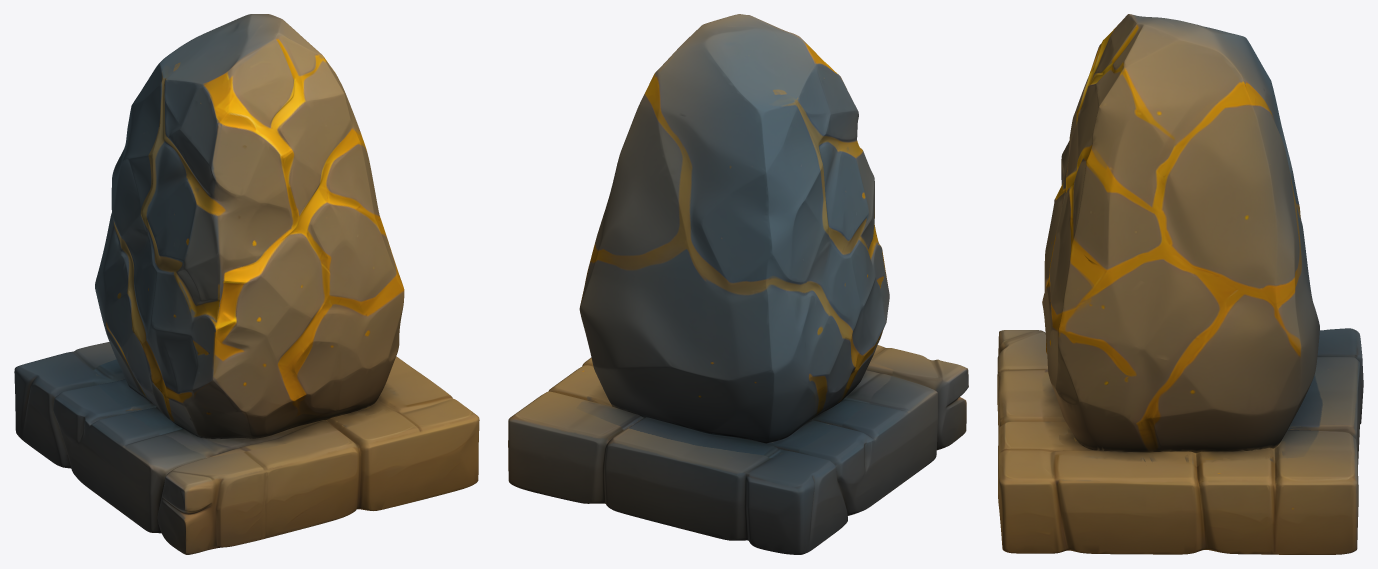
File: hy3d_ore_small_draco.glb
3 views of the same model, side by side, from view 1: azimuth 30°, elevation 25°; view 2: azimuth 150°, elevation 25°; view 3: azimuth 270°, elevation 25° (orthographic). The views are drawn at different scales.
Visible parts, largest first — view 1: node_0; view 2: node_0; view 3: node_0.
Boxes of the visible parts, x1,y1,x2,y2 form: node_0: (14,14,479,554); node_0: (508,14,968,554); node_0: (997,14,1363,554).
Bounding box in the file's own units: 0.6181 × 0.8575 × 0.6176.
1 material, 1 textured.
